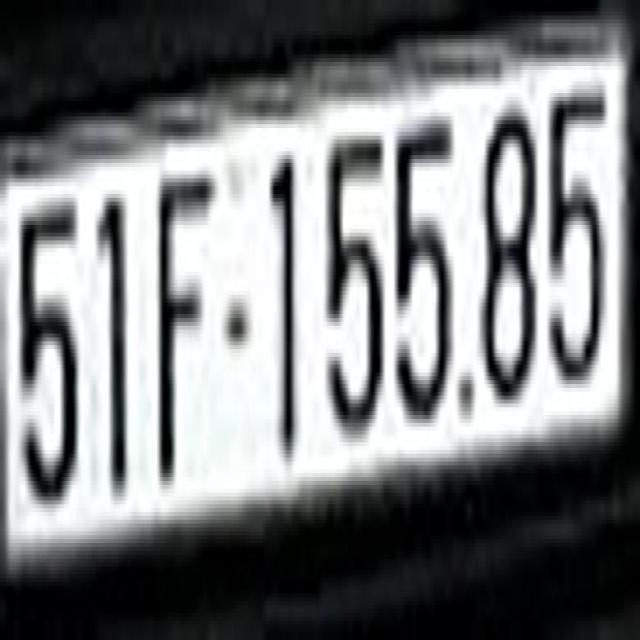1: (96, 182, 133, 504), (271, 148, 298, 462)
5: (16, 198, 82, 500), (393, 100, 452, 434), (325, 120, 384, 438), (549, 78, 604, 392)
8: (482, 92, 536, 404)
F: (156, 159, 218, 493)
